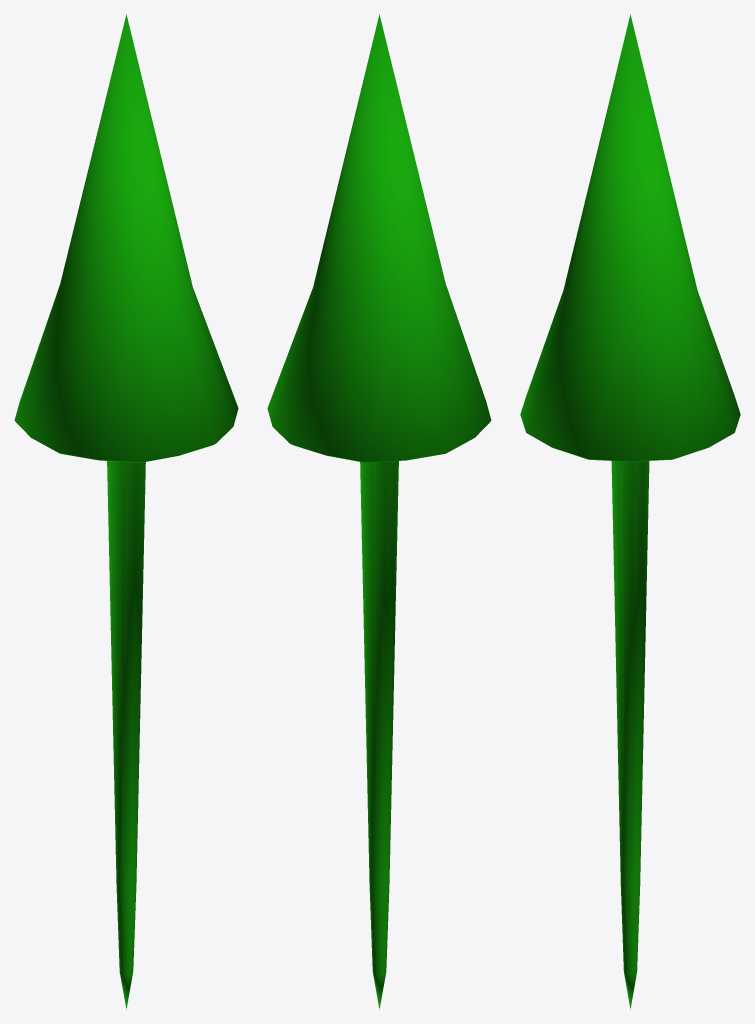
Rendered from YGreenArrow.obj.
The picture shows the model from 3 angles, left to right: view 1: azimuth 30°, elevation 25°; view 2: azimuth 150°, elevation 25°; view 3: azimuth 270°, elevation 25°; orthographic projection.
Parts seen in each view (by area): view 1: yGreenArrow_xRedArrow_XArrow_Red_XArrow_Cube.004; view 2: yGreenArrow_xRedArrow_XArrow_Red_XArrow_Cube.004; view 3: yGreenArrow_xRedArrow_XArrow_Red_XArrow_Cube.004.
Part boxes in pixels (bbox=[...]): yGreenArrow_xRedArrow_XArrow_Red_XArrow_Cube.004: bbox=[14, 14, 238, 1009]; yGreenArrow_xRedArrow_XArrow_Red_XArrow_Cube.004: bbox=[267, 14, 491, 1009]; yGreenArrow_xRedArrow_XArrow_Red_XArrow_Cube.004: bbox=[520, 14, 740, 1009].
Size of the model in its own units: 0.257 by 1.28 by 0.257.
